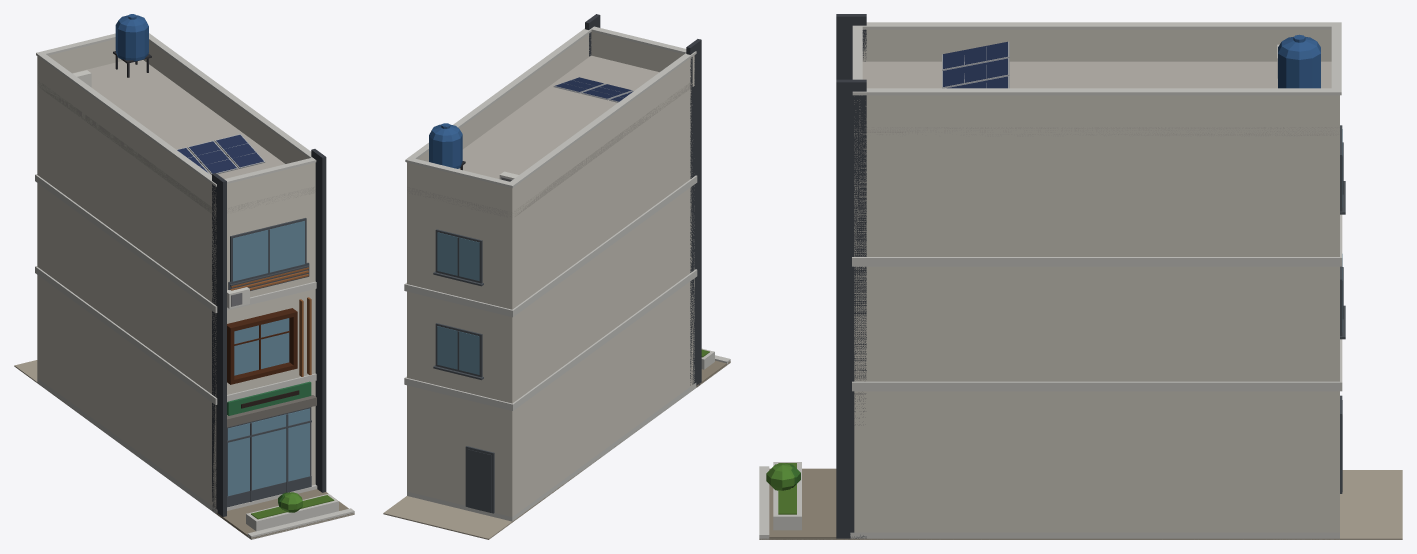
The model's file is bay1_mid.glb.
The picture shows the model from 3 angles, left to right: view 1: azimuth 30°, elevation 25°; view 2: azimuth 150°, elevation 25°; view 3: azimuth 270°, elevation 25°; orthographic projection. The views are drawn at different scales.
Visible parts, largest first — view 1: body; view 2: body; view 3: body.
Boxes of the visible parts, bbox=[...] form: body: bbox=[14, 14, 354, 539]; body: bbox=[383, 14, 730, 539]; body: bbox=[759, 14, 1402, 539].
Bounding box in the file's own units: 4.12 × 13.29 × 15.9.
